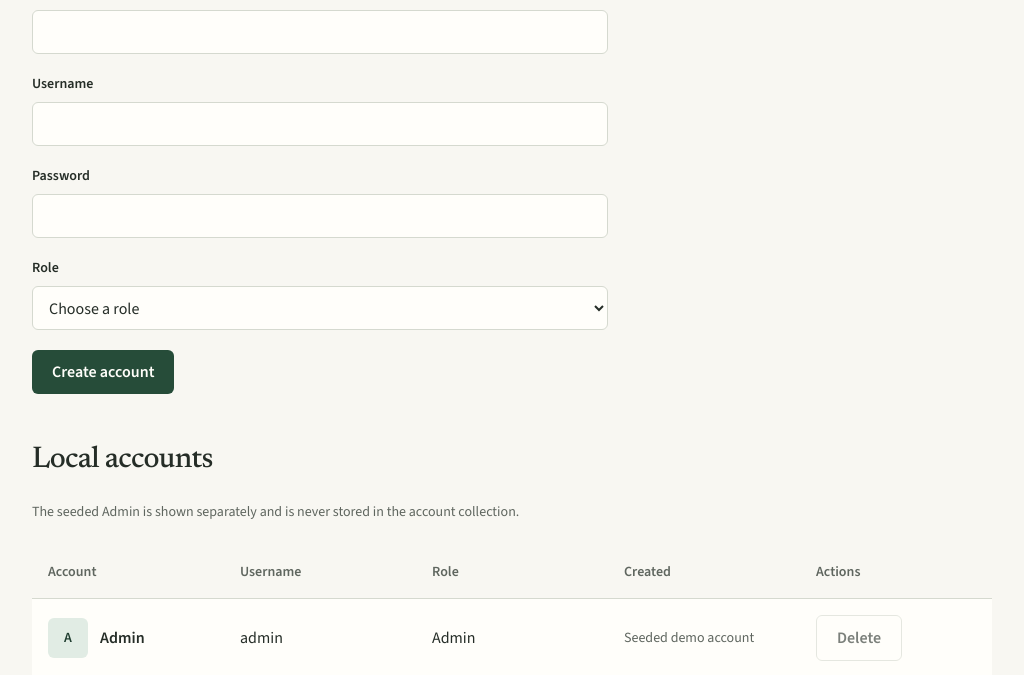
account presentation and creation › reports all required fields, then clears errors after corrected submission
(page scrolled)
Click the button "Create account" at x=103, y=372, box [32, 350, 174, 394]
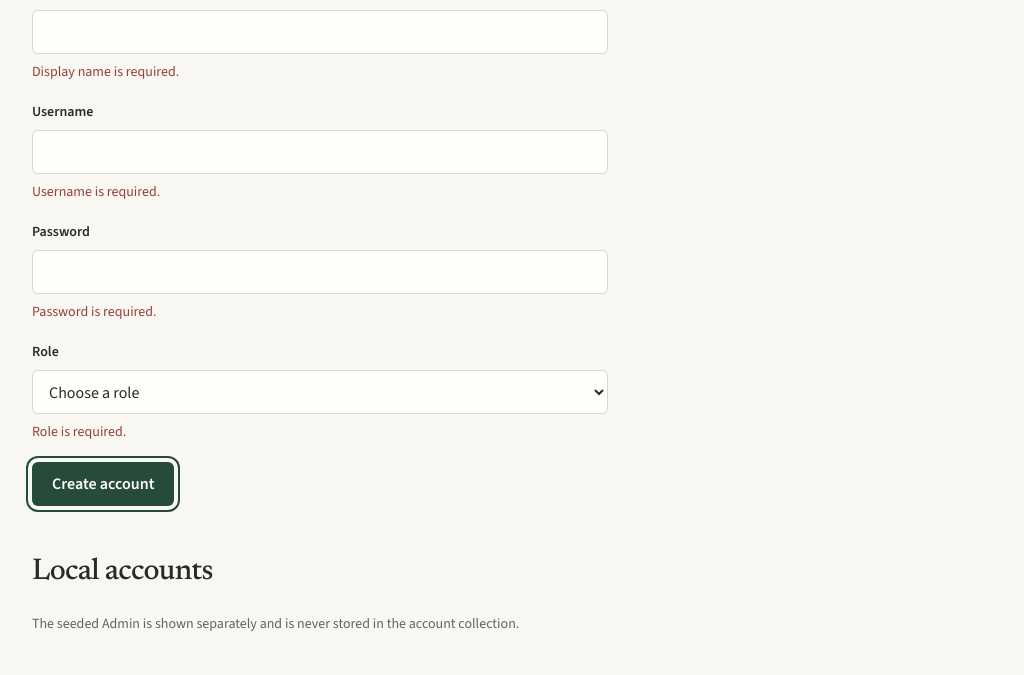
Expected: the number of messages is 4, [32, 62, 179, 81]; [32, 182, 160, 201]; [32, 302, 156, 321]; [32, 422, 126, 441]
Type "New Editor" into the field labelled "Display name" at x=320, y=32, box [32, 10, 608, 54]
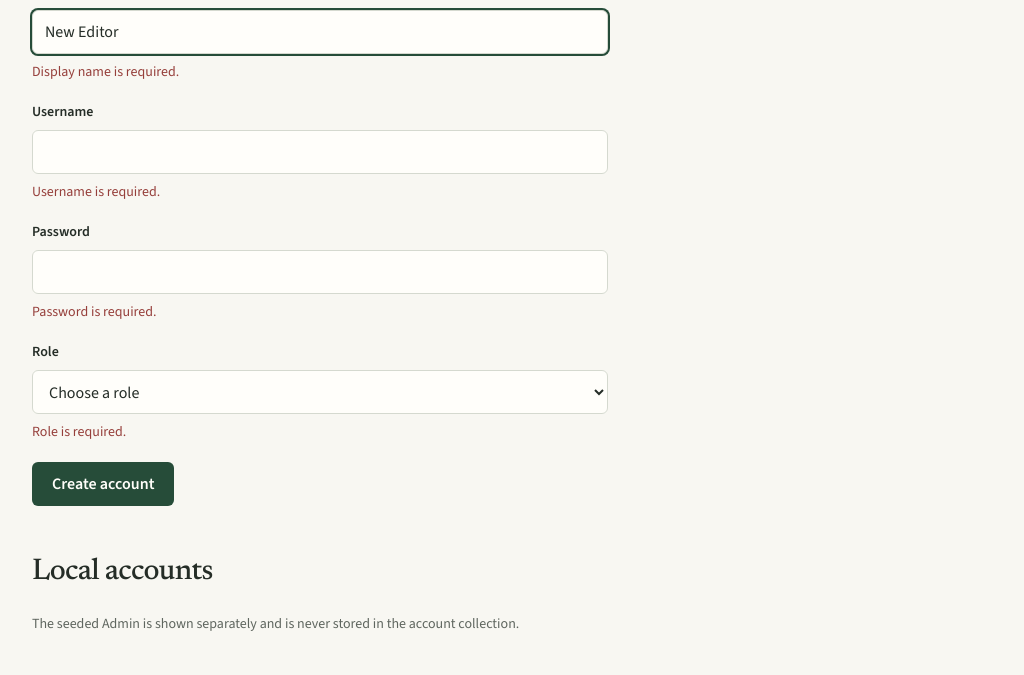
Type "new-editor" into the field labelled "Username" at x=320, y=152, box [32, 130, 608, 174]
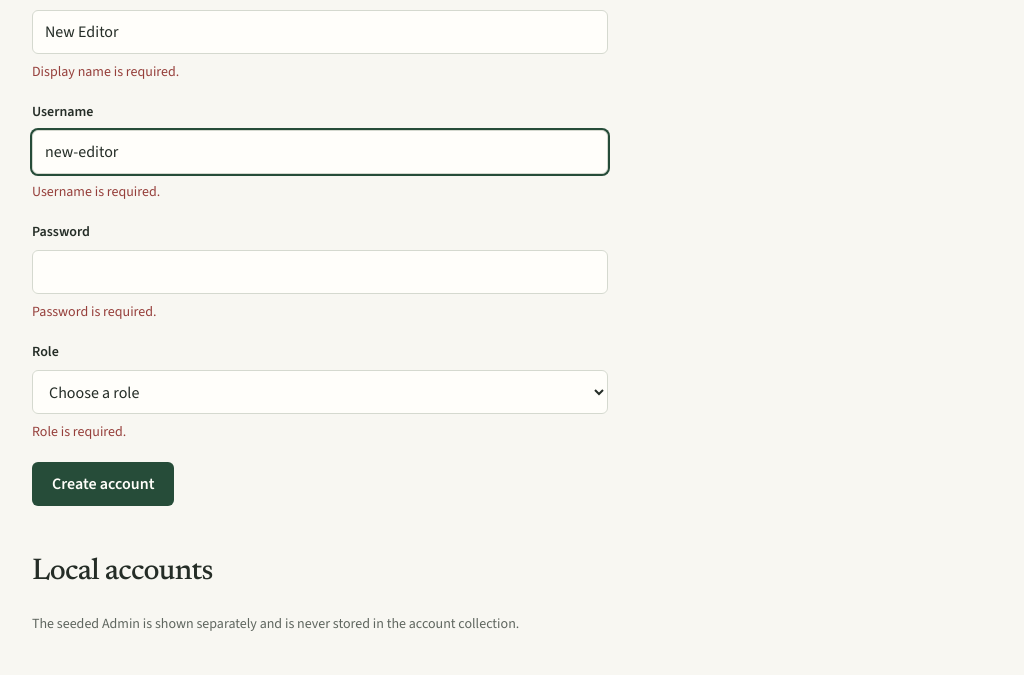
Type " demo-only " into the password field labelled "Password" at x=320, y=272, box [32, 250, 608, 294]
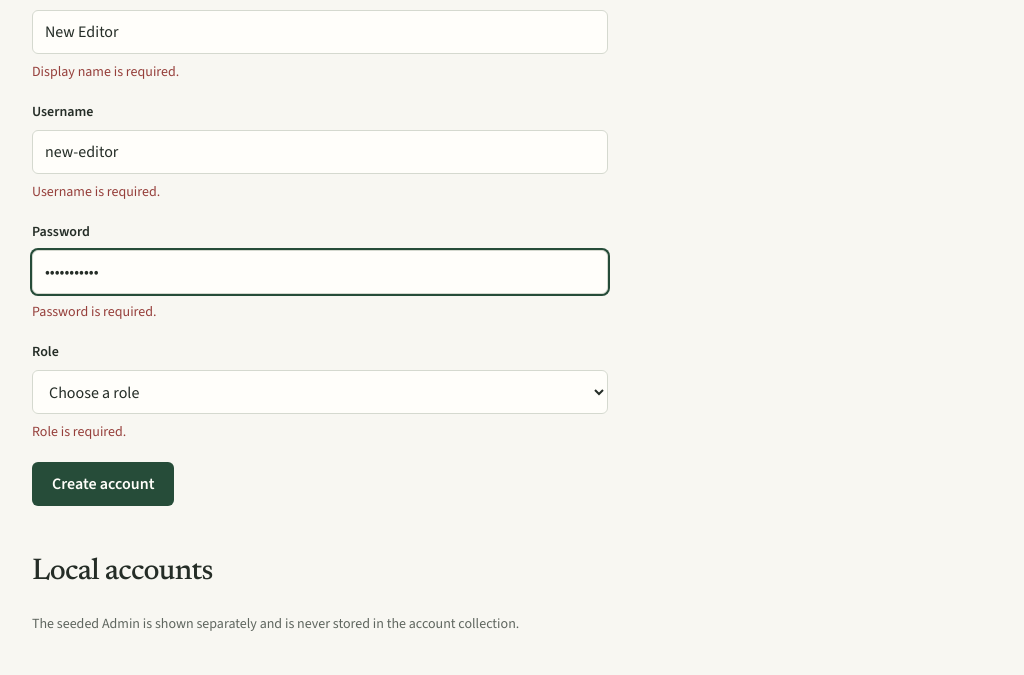
Select "user" in the dropdown labelled "Role" at x=320, y=392, box [32, 370, 608, 414]
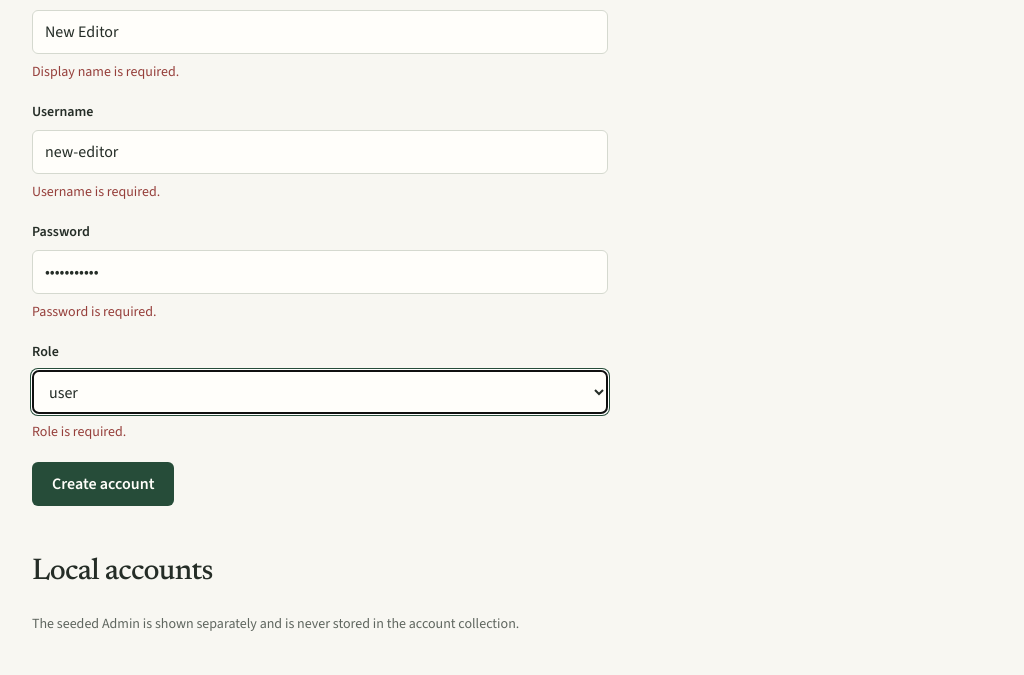
Click the button "Create account" at x=103, y=484, box [32, 462, 174, 506]
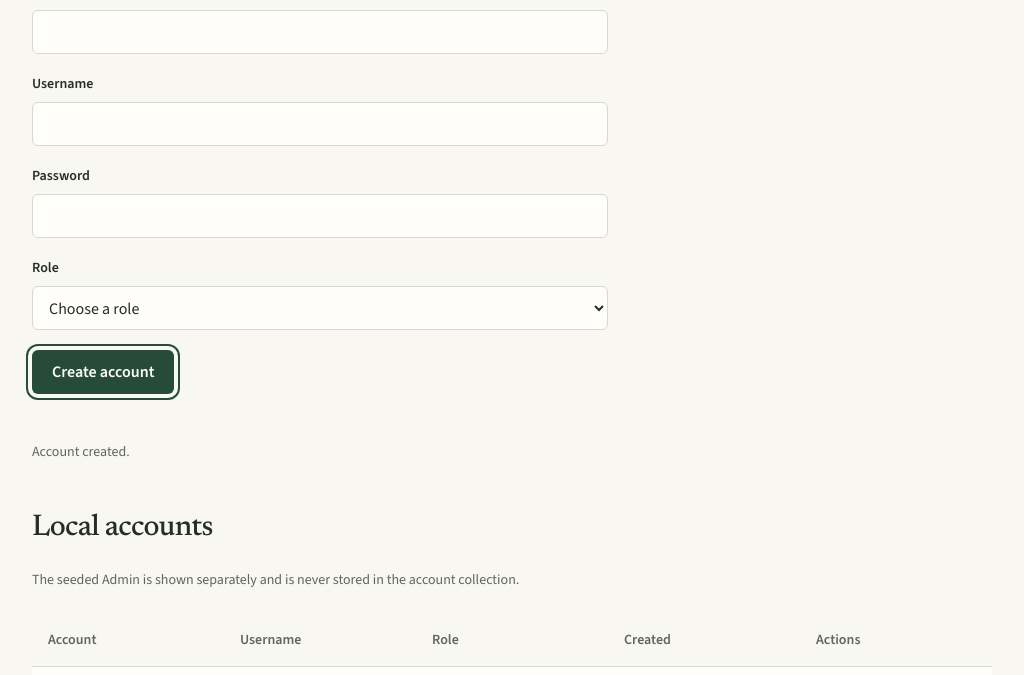
Expected: the message "Display name is required." is gone
